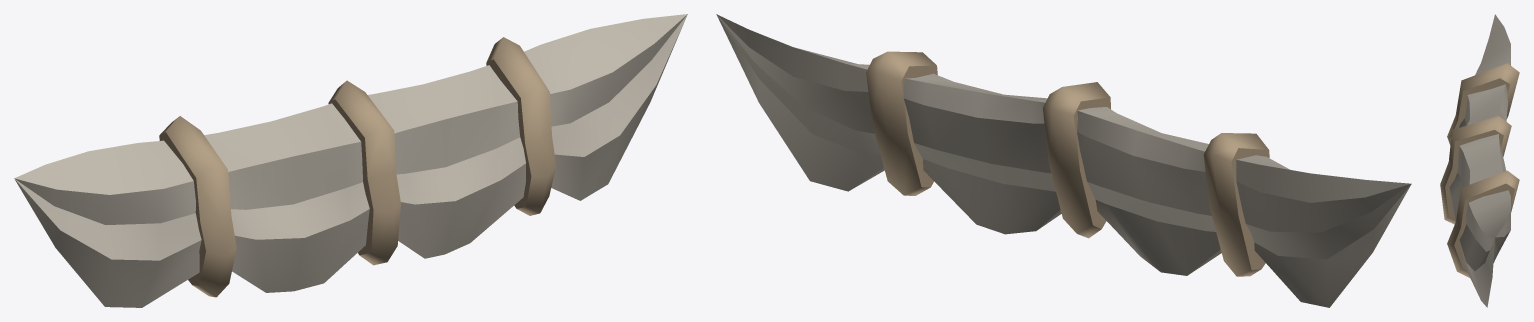
Rendered from Sail_Folded_Big.fbx.
3 renders of one model, left to right at view 1: azimuth 30°, elevation 25°; view 2: azimuth 150°, elevation 25°; view 3: azimuth 270°, elevation 25°, orthographic. The views are drawn at different scales.
Parts seen in each view (by area): view 1: Sail_Folded_Big; view 2: Sail_Folded_Big; view 3: Sail_Folded_Big.
Boxes of the visible parts, left/top/right/bottom form: Sail_Folded_Big: left=14, top=14, right=687, bottom=307; Sail_Folded_Big: left=716, top=14, right=1411, bottom=307; Sail_Folded_Big: left=1440, top=14, right=1519, bottom=307.
Size of the model in its own units: 540 by 136 by 81.27.
